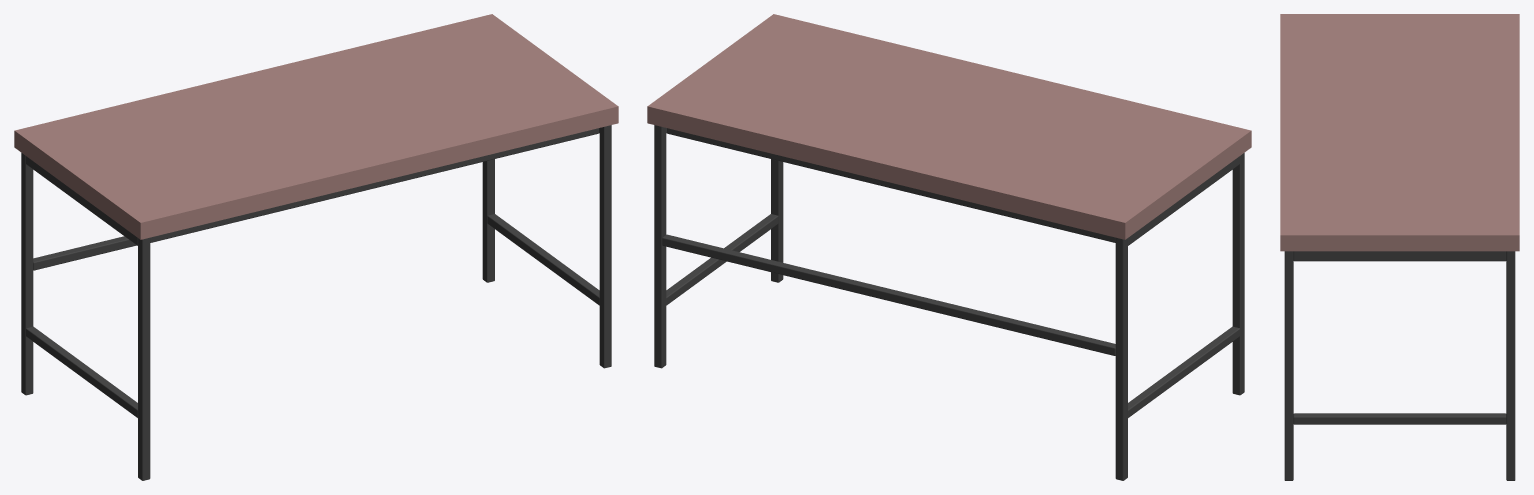
Rendered from Table.fbx.
3 views of the same model, side by side, from view 1: azimuth 30°, elevation 25°; view 2: azimuth 150°, elevation 25°; view 3: azimuth 270°, elevation 25° (orthographic). The views are drawn at different scales.
Parts seen in each view (by area): view 1: Table, Table leg; view 2: Table, Table leg; view 3: Table, Table leg.
Part boxes in pixels (x1,y1,x2,y2): Table: [14, 14, 618, 239]; Table leg: [21, 125, 611, 480]; Table: [647, 14, 1251, 239]; Table leg: [654, 125, 1244, 480]; Table: [1280, 14, 1519, 251]; Table leg: [1284, 251, 1515, 480].
Size of the model in its own units: 1.18 by 0.6164 by 0.54.
